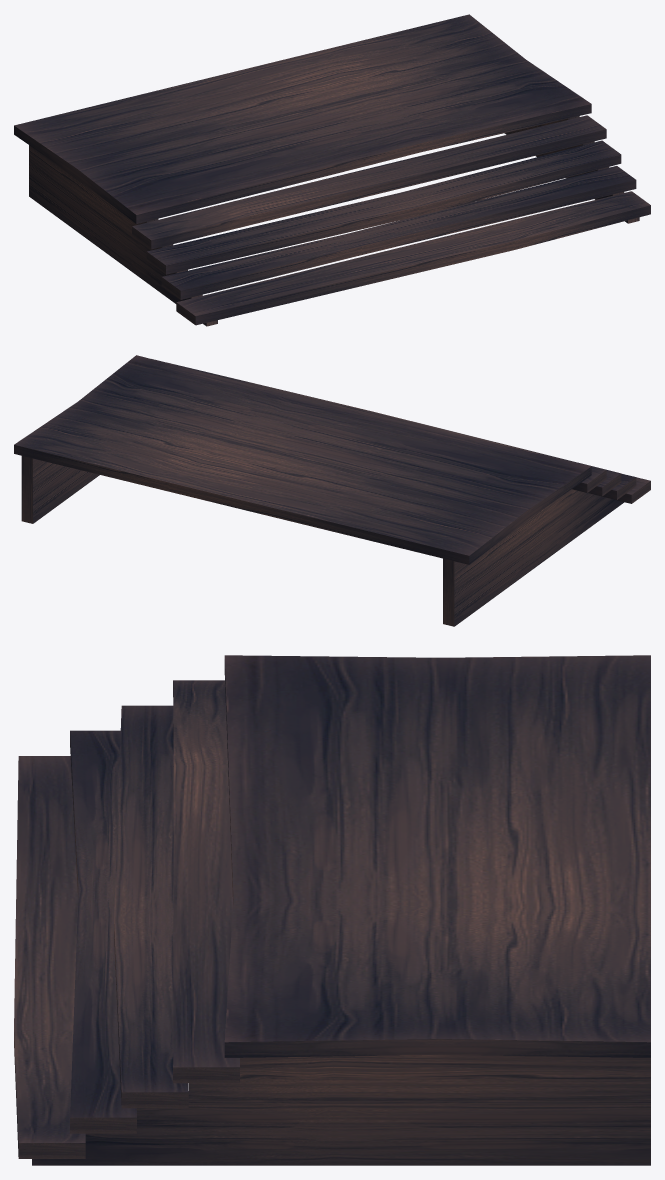
File: Platform_A.fbx
The picture shows the model from 3 angles, top to bottom: view 1: azimuth 30°, elevation 25°; view 2: azimuth 150°, elevation 25°; view 3: azimuth 270°, elevation 25°; orthographic projection. The views are drawn at different scales.
Visible parts, largest first — view 1: Platform_A; view 2: Platform_A; view 3: Platform_A.
Part boxes in pixels (x1,y1,x2,y2): Platform_A: (14, 14, 650, 326); Platform_A: (14, 355, 650, 626); Platform_A: (14, 655, 650, 1165).
Bounding box in the file's own units: 1.25 × 0.1963 × 0.8719.
